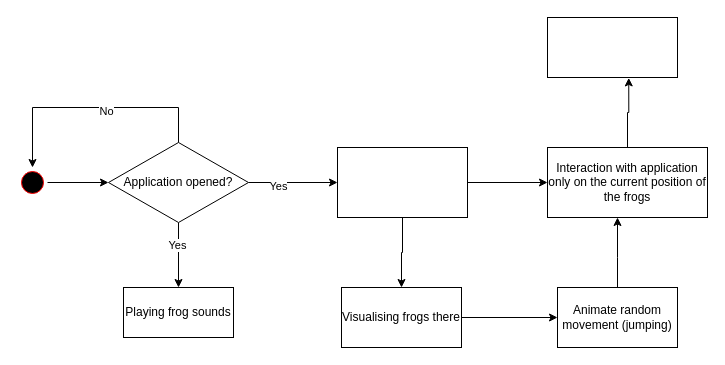
Some shapes in this 725 by 365 pixel diagram are drawn without their labels. Each missing label, with the centre of its shape:
"Choosing random positions on the botton of the desktop" belongs at point (402, 182).
"Interaction with other applications on the destkop is possible" belongs at point (612, 47).
